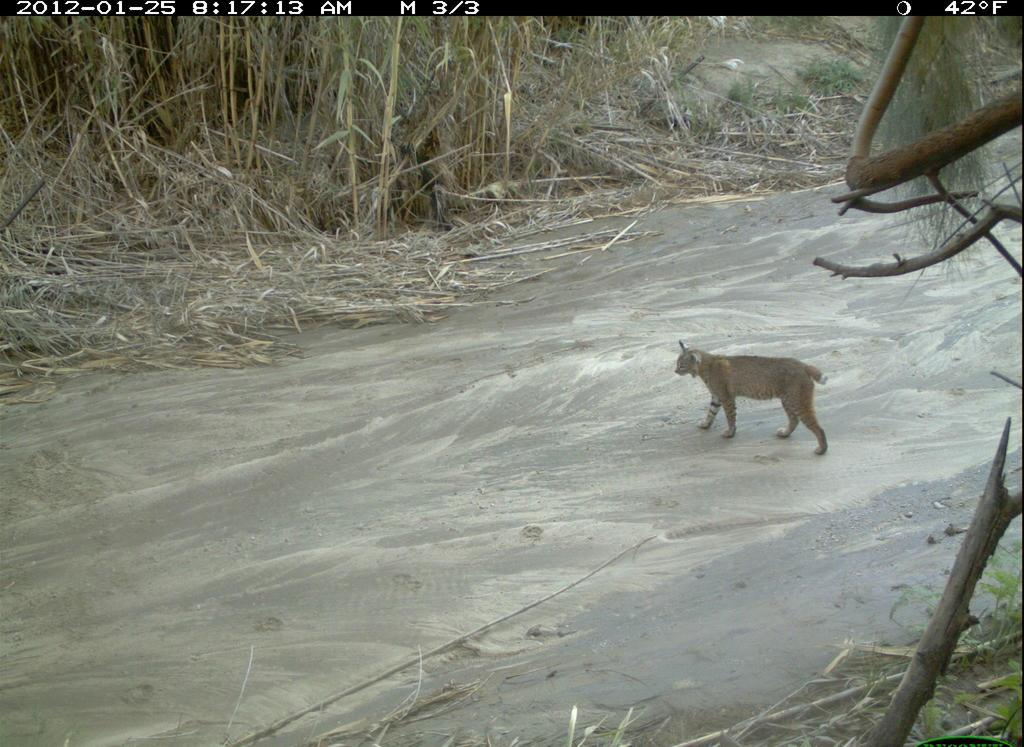bobcat: (665, 340, 849, 466)
